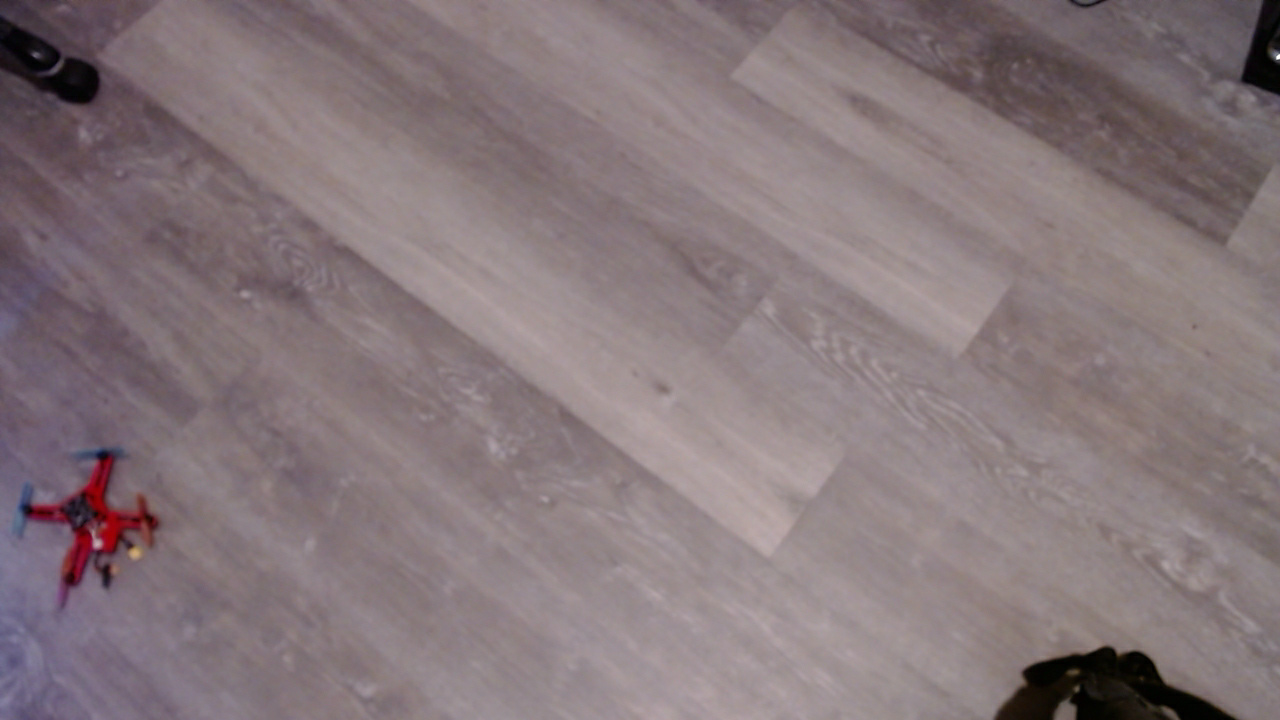crazyflie: (16, 449, 185, 616)
